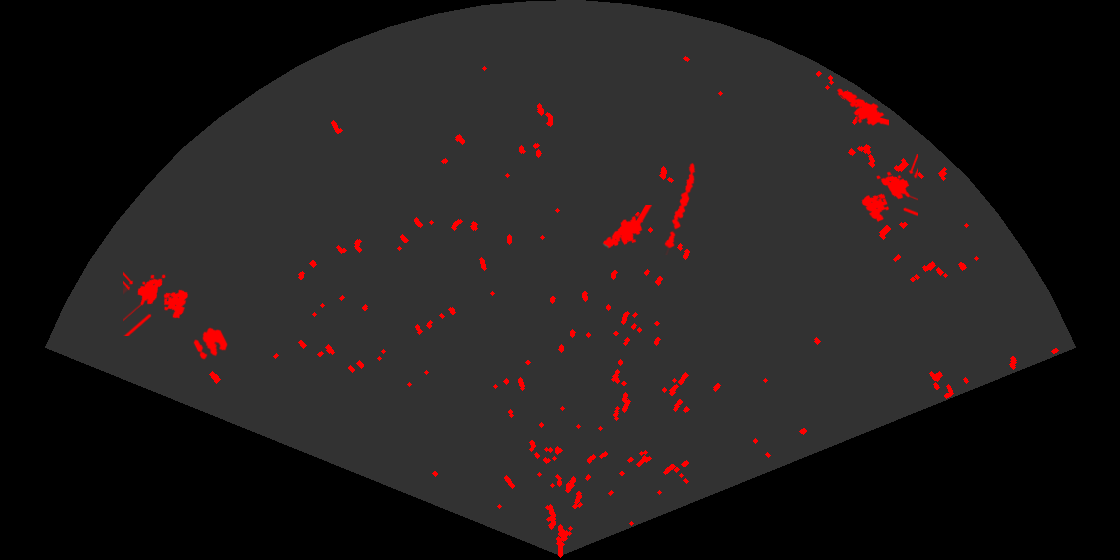ball: (192, 326, 229, 361)
cage: (123, 270, 190, 336), (860, 154, 918, 224)
chain: (663, 161, 697, 255)
frogman: (602, 205, 652, 250), (835, 87, 889, 128)
